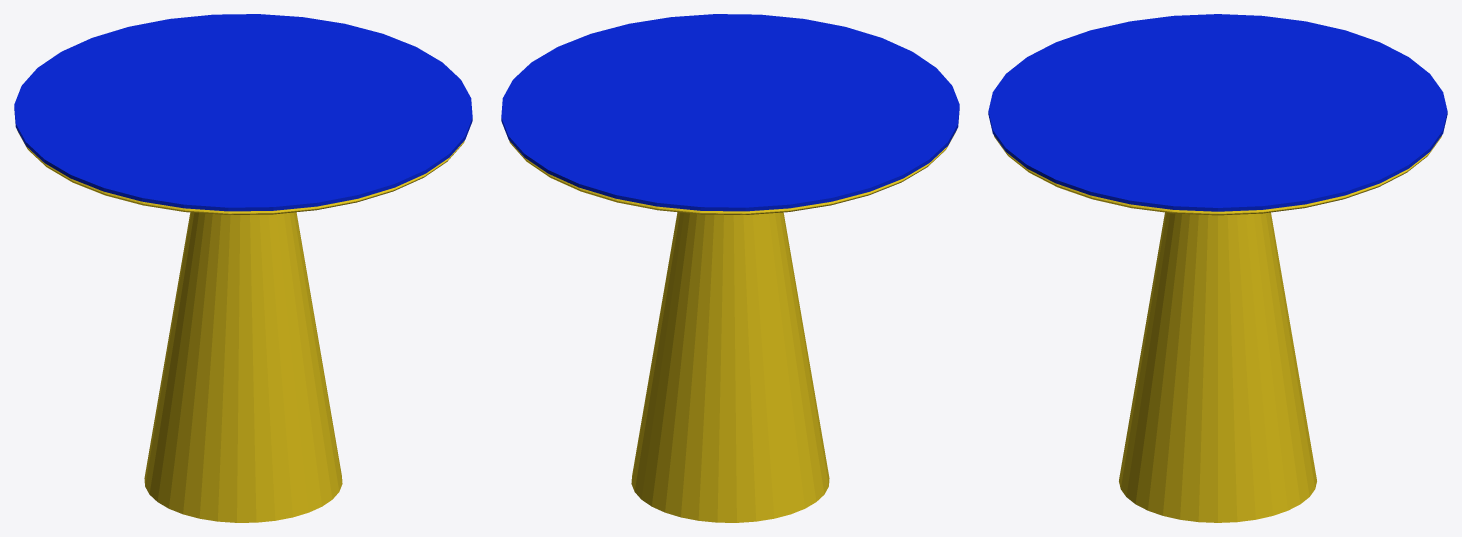
File: RoundGlassTable.fbx
3 renders of one model, left to right at view 1: azimuth 30°, elevation 25°; view 2: azimuth 150°, elevation 25°; view 3: azimuth 270°, elevation 25°, orthographic.
Parts seen in each view (by area): view 1: Cylinder; view 2: Cylinder; view 3: Cylinder.
Part boxes in pixels (x1=…): Cylinder: x1=14, y1=14, x2=472, y2=522; Cylinder: x1=501, y1=14, x2=959, y2=522; Cylinder: x1=988, y1=14, x2=1447, y2=522.
Bounding box in the file's own units: 101 × 89.49 × 101.
